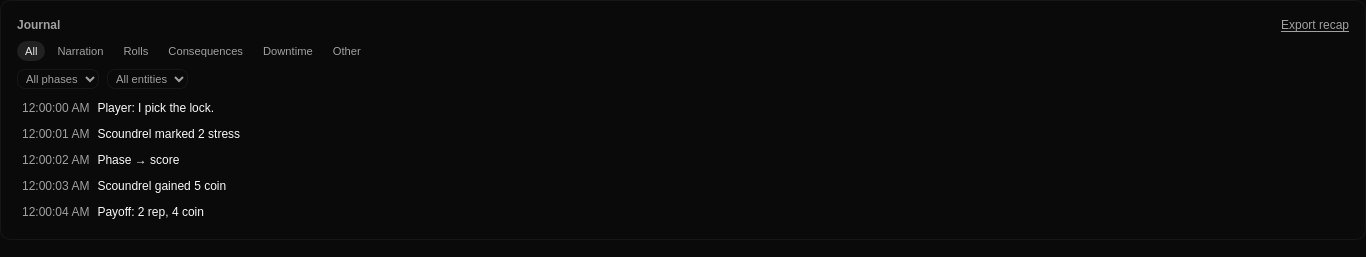
Test case: JournalPanel › filters by the phase active when each entry happened
Select "score" in the 1st dropdown showing "All phases" at (58, 79), box [17,69,99,89]
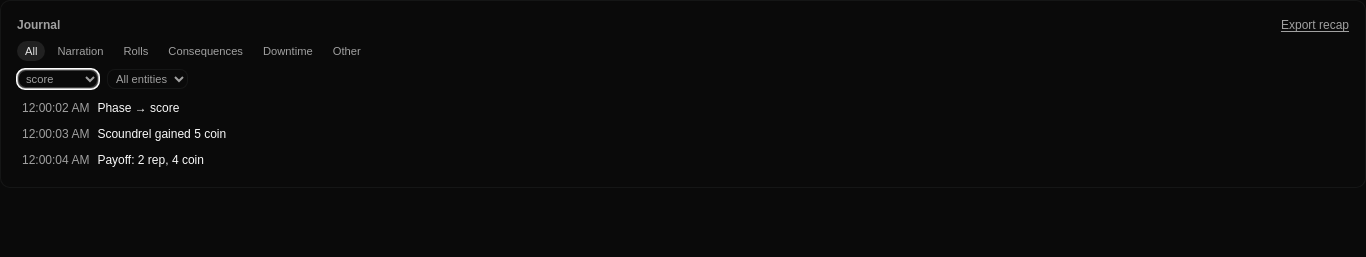
Check: the text "Scoundrel gained 5 coin" is shown, box [97,126,226,142]
Check: the heading "Player: I pick the lock." is gone
Check: the heading "Scoundrel marked 2 stress" is gone
